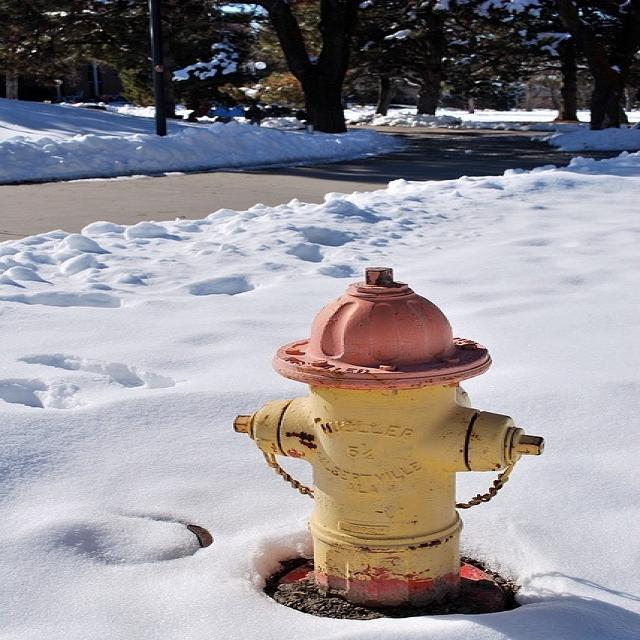fire_hydrant: (231, 244, 564, 622)
